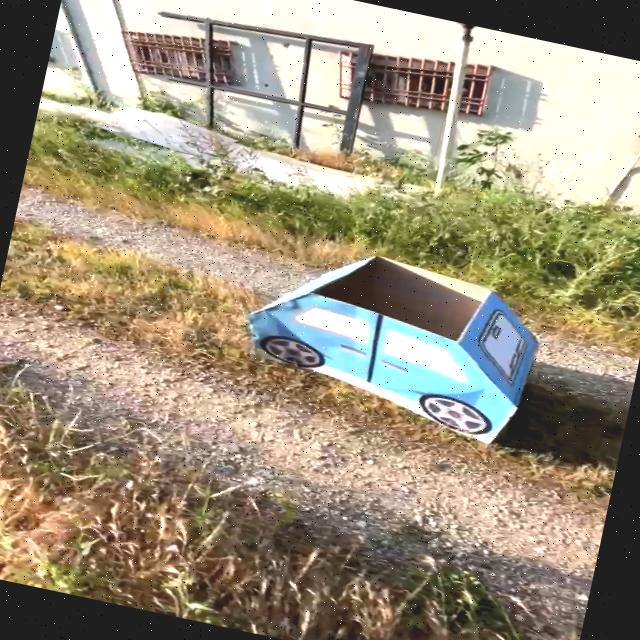blue_car: (185, 207, 588, 484)
